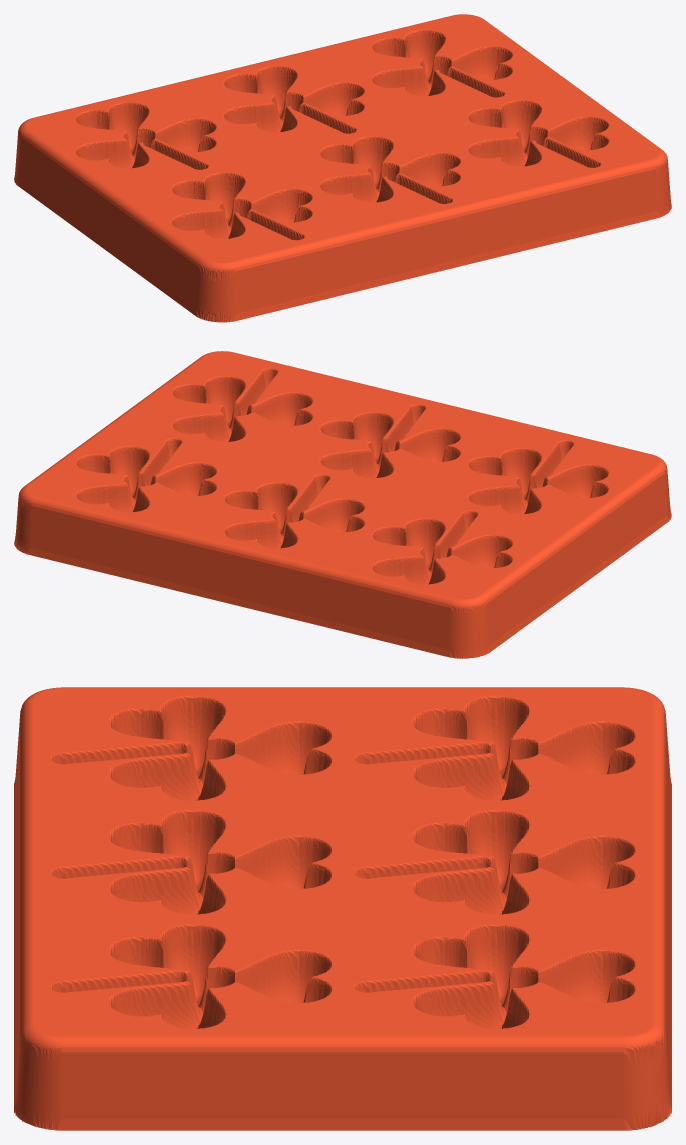
File: mold.glb
3 views of the same model, one above another, from view 1: azimuth 30°, elevation 25°; view 2: azimuth 150°, elevation 25°; view 3: azimuth 270°, elevation 25° (orthographic). The views are drawn at different scales.
Visible parts, largest first — view 1: geometry_0; view 2: geometry_0; view 3: geometry_0.
Boxes of the visible parts, bbox=[...] form: geometry_0: bbox=[14, 14, 671, 322]; geometry_0: bbox=[14, 351, 671, 658]; geometry_0: bbox=[14, 687, 671, 1130].
Size of the model in its own units: 0.1586 by 0.0175 by 0.1211.
